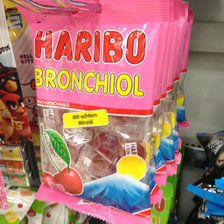candy: (27, 4, 168, 224)
